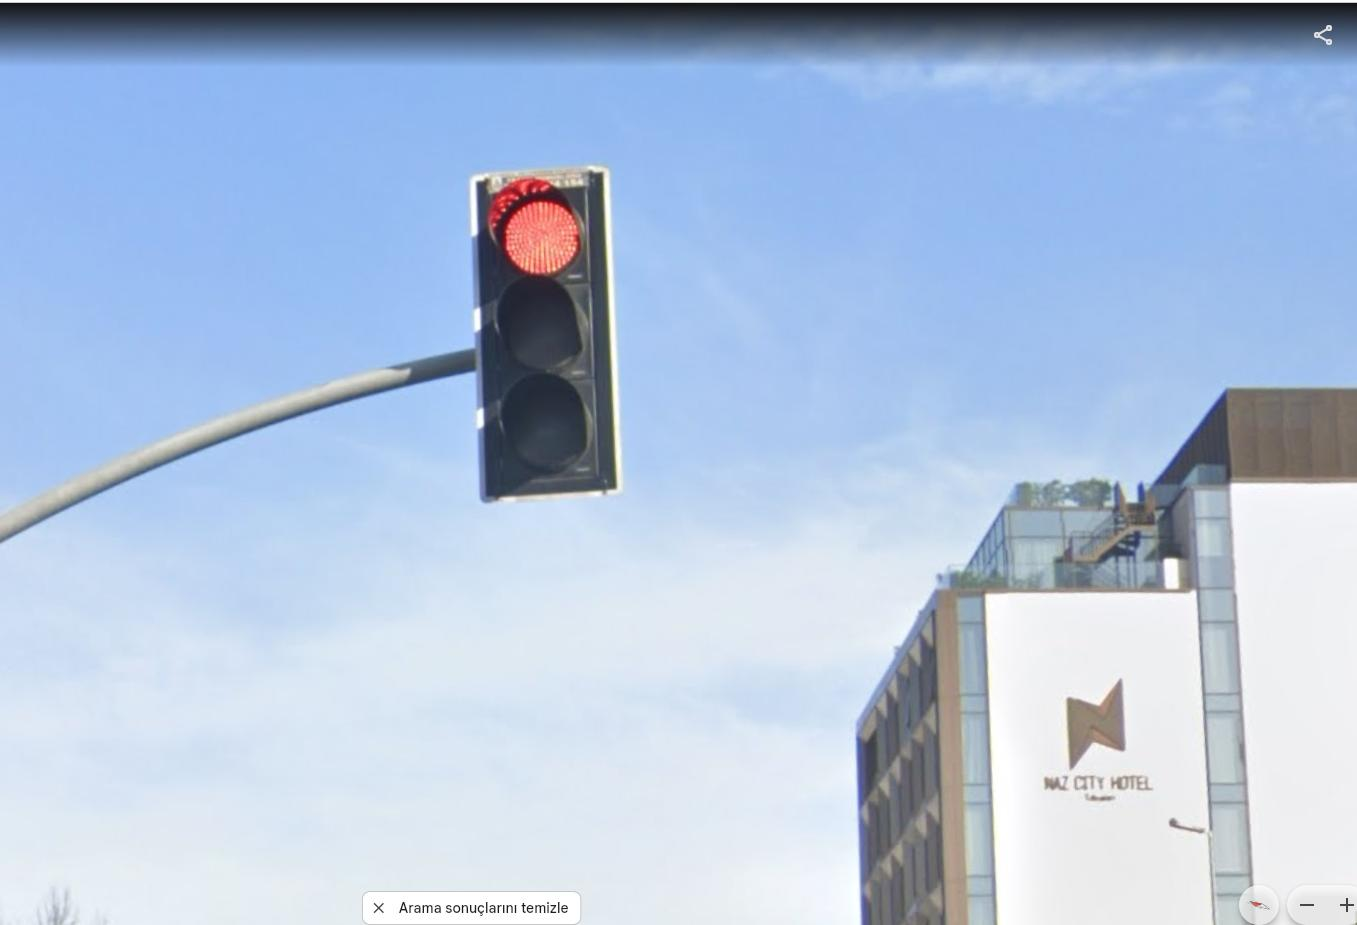redlight: (473, 177, 609, 477)
